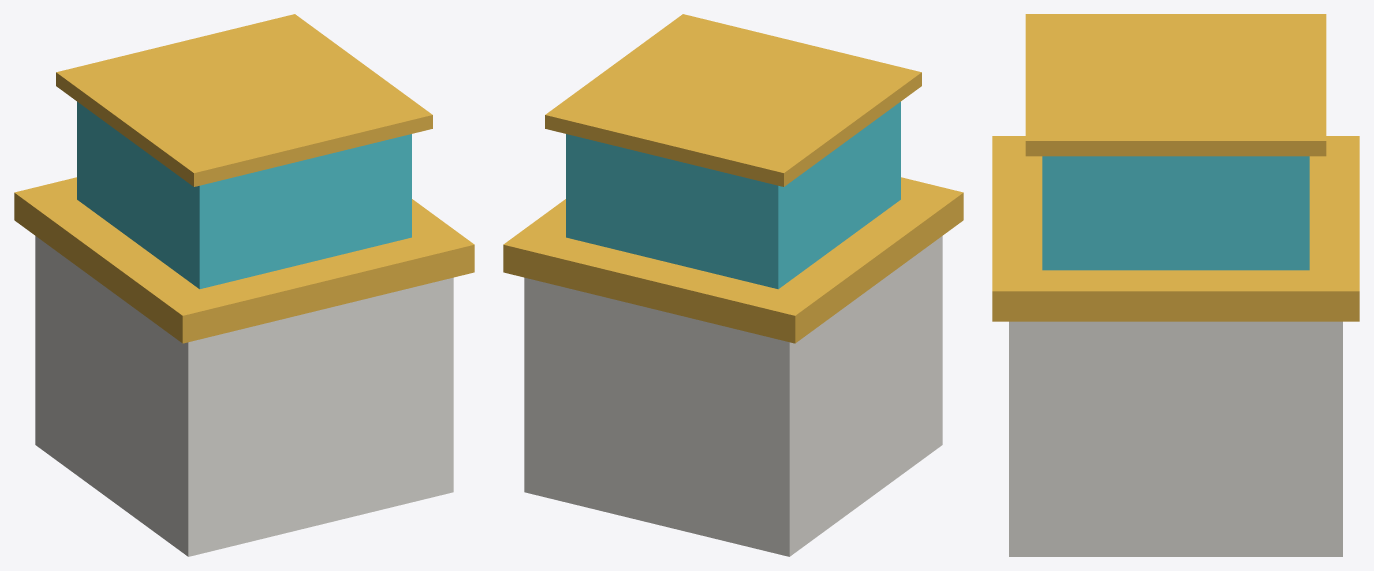
Rendered from mdl_vitrina.fbx.
3 views of the same model, side by side, from view 1: azimuth 30°, elevation 25°; view 2: azimuth 150°, elevation 25°; view 3: azimuth 270°, elevation 25° (orthographic). The views are drawn at different scales.
Parts seen in each view (by area): view 1: mdl_vitrina; view 2: mdl_vitrina; view 3: mdl_vitrina.
Part boxes in pixels (x1=…): mdl_vitrina: x1=14, y1=14, x2=474, y2=556; mdl_vitrina: x1=503, y1=14, x2=963, y2=556; mdl_vitrina: x1=992, y1=14, x2=1359, y2=556.
Bounding box in the file's own units: 220 × 270 × 220.
